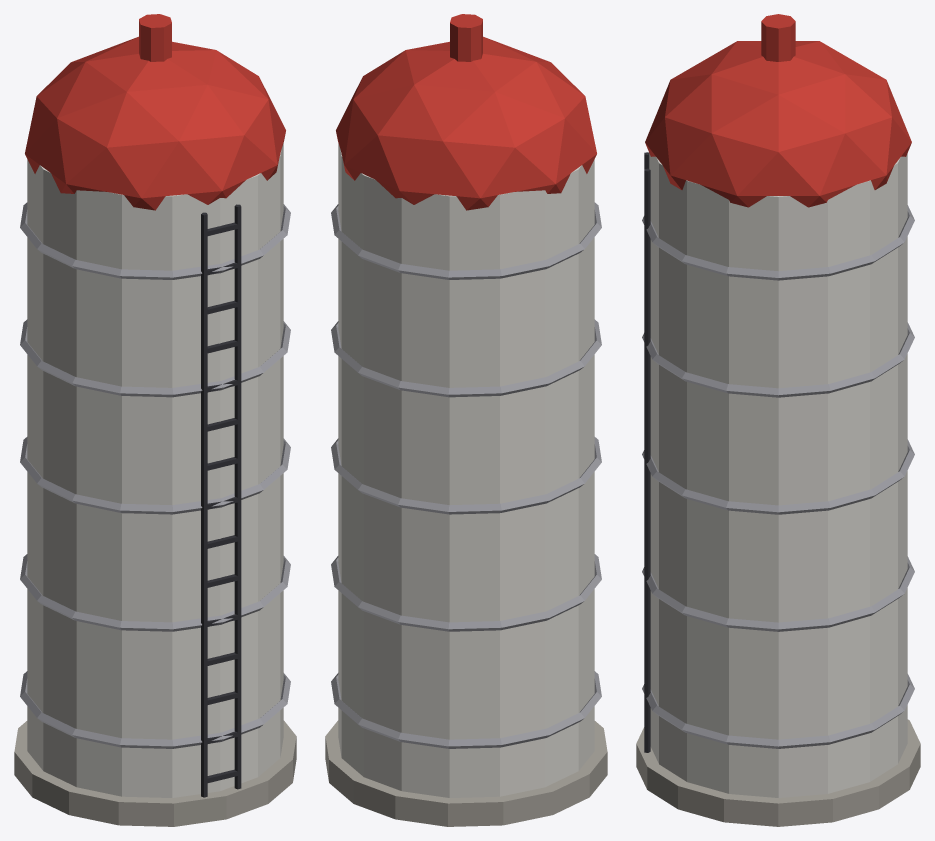
File: Silo.fbx
3 renders of one model, left to right at view 1: azimuth 30°, elevation 25°; view 2: azimuth 150°, elevation 25°; view 3: azimuth 270°, elevation 25°, orthographic.
Visible parts, largest first — view 1: Walls, Dome, Bands, Ladder, Base; view 2: Walls, Dome, Bands, Base; view 3: Walls, Dome, Bands, Base, Ladder.
Part boxes in pixels (<box>): Walls: <box>27,143,283,797</box>; Dome: <box>25,14,285,210</box>; Bands: <box>20,202,290,748</box>; Ladder: <box>201,204,241,797</box>; Base: <box>14,720,296,826</box>; Walls: <box>338,143,594,797</box>; Dome: <box>336,14,596,210</box>; Bands: <box>331,202,601,748</box>; Base: <box>325,720,607,826</box>; Walls: <box>649,153,907,797</box>; Dome: <box>645,14,911,207</box>; Bands: <box>642,205,914,748</box>; Base: <box>636,719,920,826</box>; Ladder: <box>644,152,650,752</box>.
Size of the model in its own units: 6.6 by 19.1 by 6.6.
